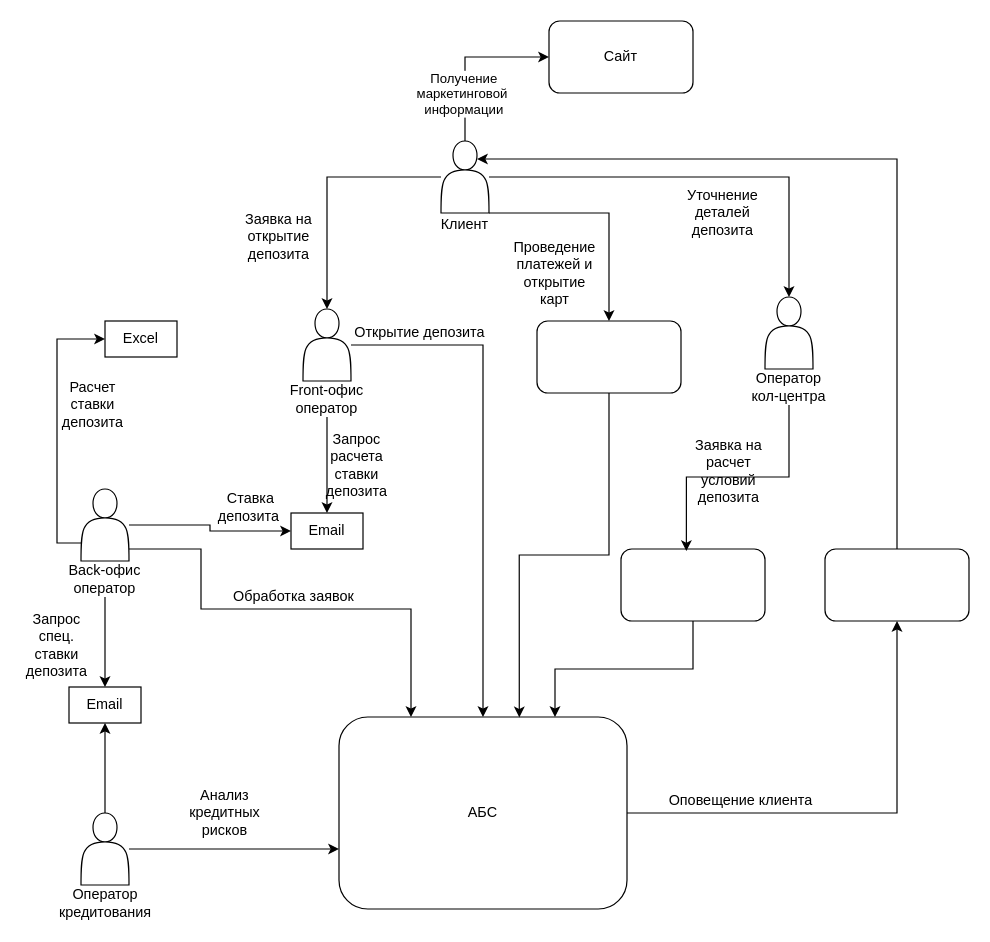
This 990x942 diagram has some shape labels left out. Here are the shapes that lost their labels. From the top down, the centre of each, then its label:
At point 608,356: "Интернет-банк".
At point 692,584: "Система кол-центра".
At point 896,584: "СМС-шлюз".
